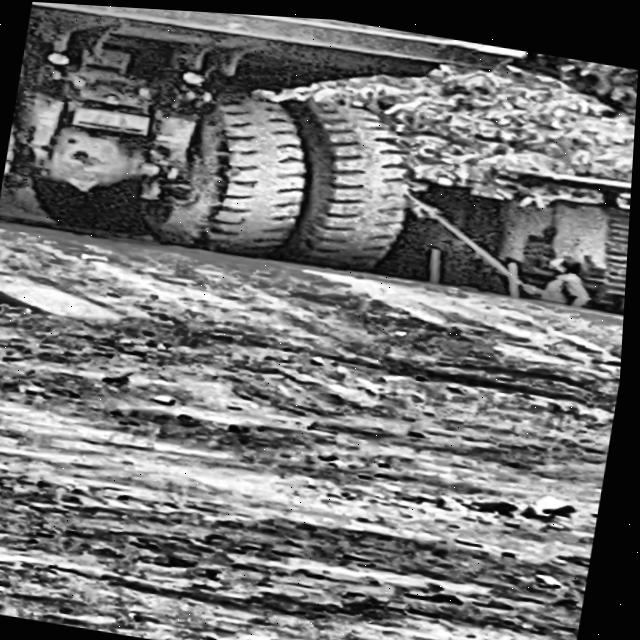dump_truck: (0, 0, 526, 343)
